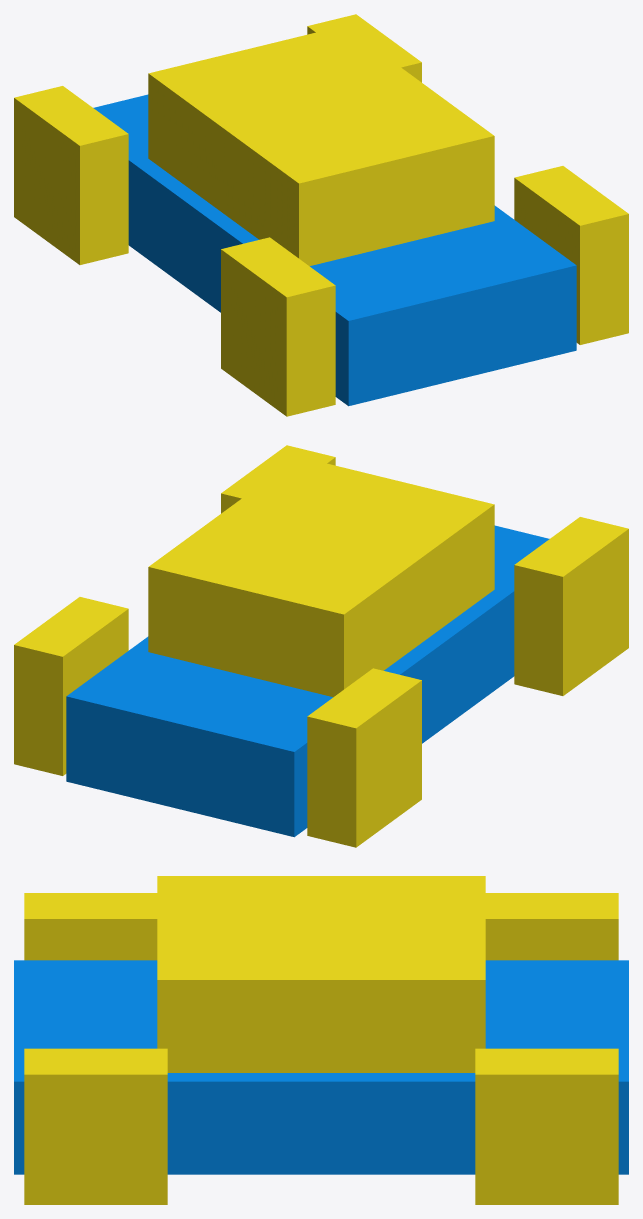
The model's file is car_4.glb.
3 renders of one model, top to bottom at view 1: azimuth 30°, elevation 25°; view 2: azimuth 150°, elevation 25°; view 3: azimuth 270°, elevation 25°, orthographic. The views are drawn at different scales.
Bounding box in the file's own units: 2.1 × 1 × 3.
